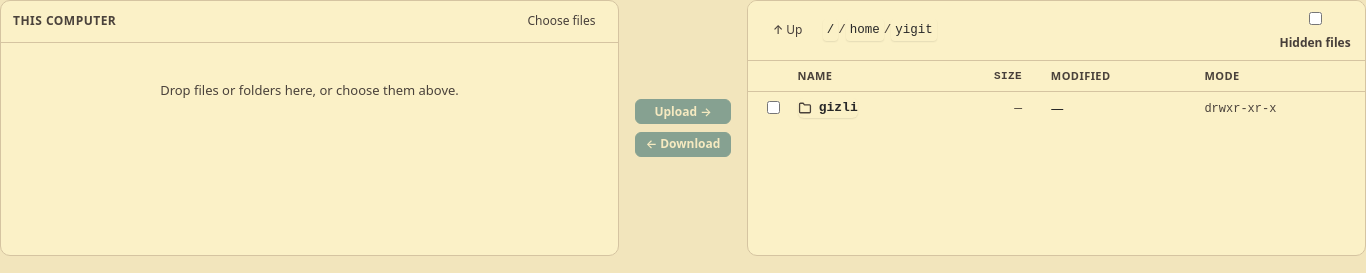
FileBrowser › reddedilen dizine girmiyor ve sebebi yazıyor
This screenshot has width=1366, height=273.
Click the button "gizli": click(828, 108) [798,98,858,118]
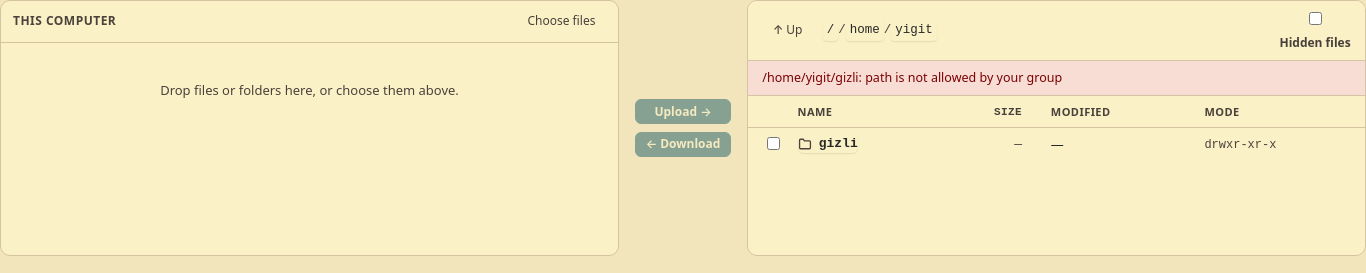
Expected: the button "yigit" is shown, [891,19,937,41]
Now the message reads "/home/yigit/gizli: path is not allowed by your group", box [762,69,1062,86]
